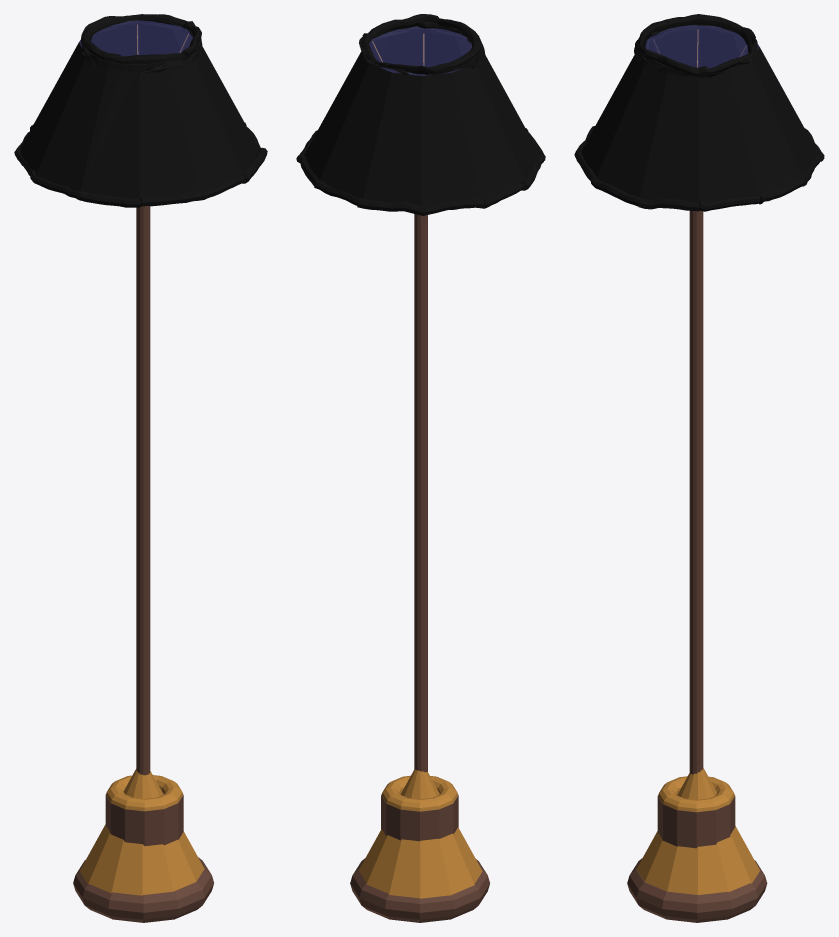
File: Old Lamp.glb
3 views of the same model, side by side, from view 1: azimuth 30°, elevation 25°; view 2: azimuth 150°, elevation 25°; view 3: azimuth 270°, elevation 25° (orthographic).
Parts seen in each view (by area): view 1: node_MeshObject138858496-PolyPaper23, node_MeshObject710937600-PolyGlass24; view 2: node_MeshObject138858496-PolyPaper23, node_MeshObject710937600-PolyGlass24; view 3: node_MeshObject138858496-PolyPaper23, node_MeshObject710937600-PolyGlass24.
Part boxes in pixels (left/top/right/bottom): node_MeshObject138858496-PolyPaper23: left=14, top=14, right=267, bottom=922; node_MeshObject710937600-PolyGlass24: left=79, top=20, right=192, bottom=55; node_MeshObject138858496-PolyPaper23: left=296, top=14, right=545, bottom=922; node_MeshObject710937600-PolyGlass24: left=369, top=26, right=471, bottom=75; node_MeshObject138858496-PolyPaper23: left=574, top=14, right=824, bottom=922; node_MeshObject710937600-PolyGlass24: left=645, top=25, right=758, bottom=67.
Bounding box in the file's own units: 0.2574 × 0.993 × 0.2612.
